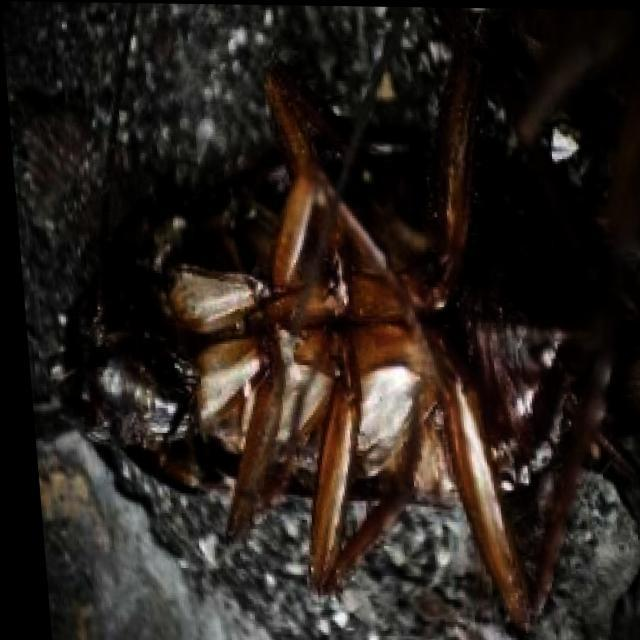cockroach: (42, 148, 640, 604)
